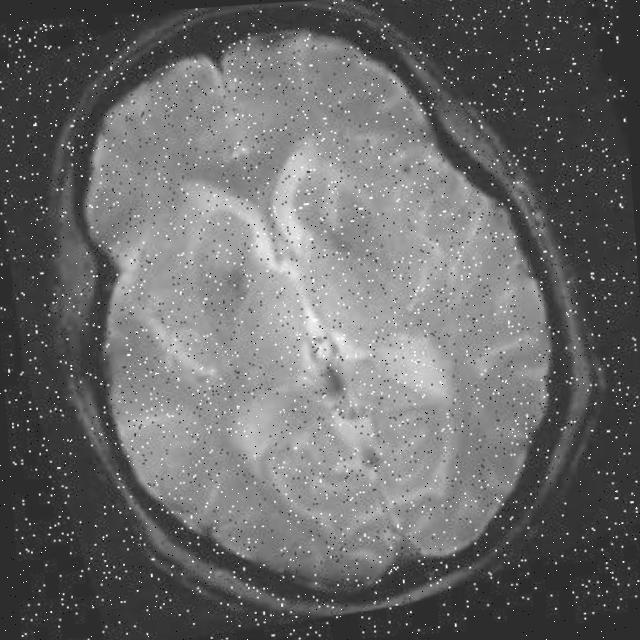CN: (106, 195, 262, 472), (383, 146, 537, 393)
